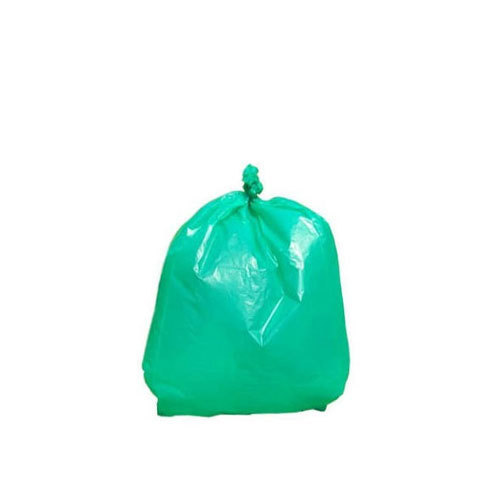plastic_bag: (135, 157, 363, 427)
